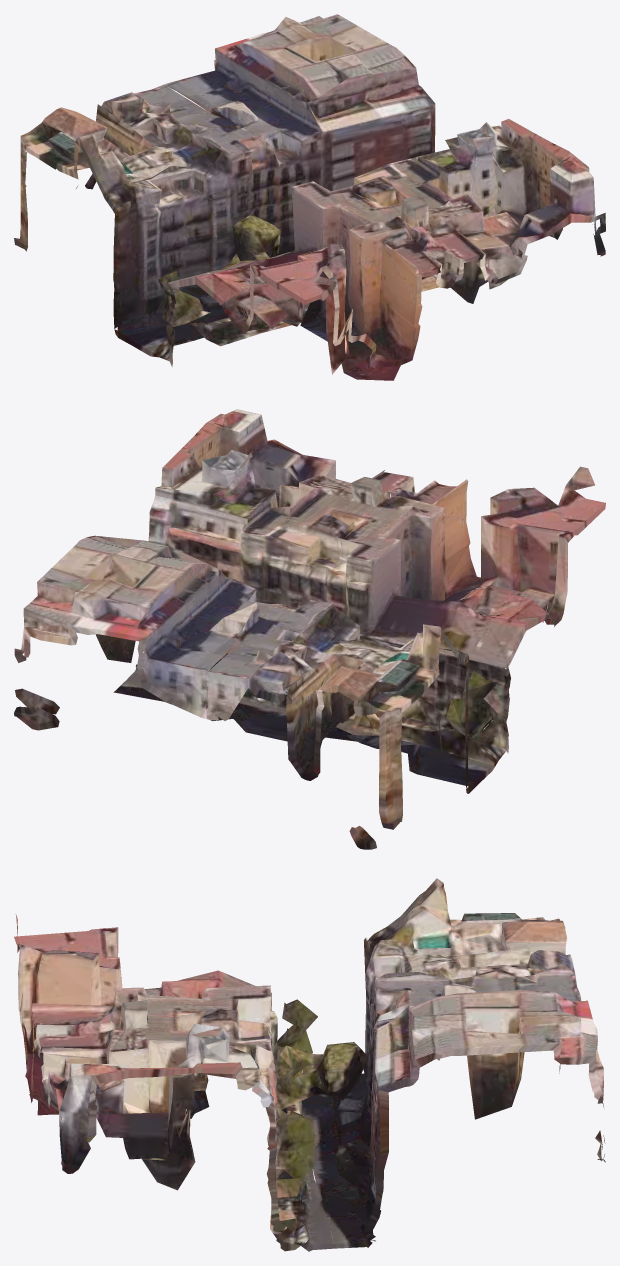
3 views of the same model, one above another, from view 1: azimuth 30°, elevation 25°; view 2: azimuth 150°, elevation 25°; view 3: azimuth 270°, elevation 25° (orthographic). The views are drawn at different scales.
Parts seen in each view (by area): view 1: Mesh_0; view 2: Mesh_0; view 3: Mesh_0.
Part boxes in pixels (x1,y1,x2,y2): Mesh_0: [14, 14, 605, 380]; Mesh_0: [14, 409, 605, 849]; Mesh_0: [14, 878, 605, 1251].
Size of the model in its own units: 66.59 by 32.27 by 82.75.
Materials: 1 (1 with a texture image).
